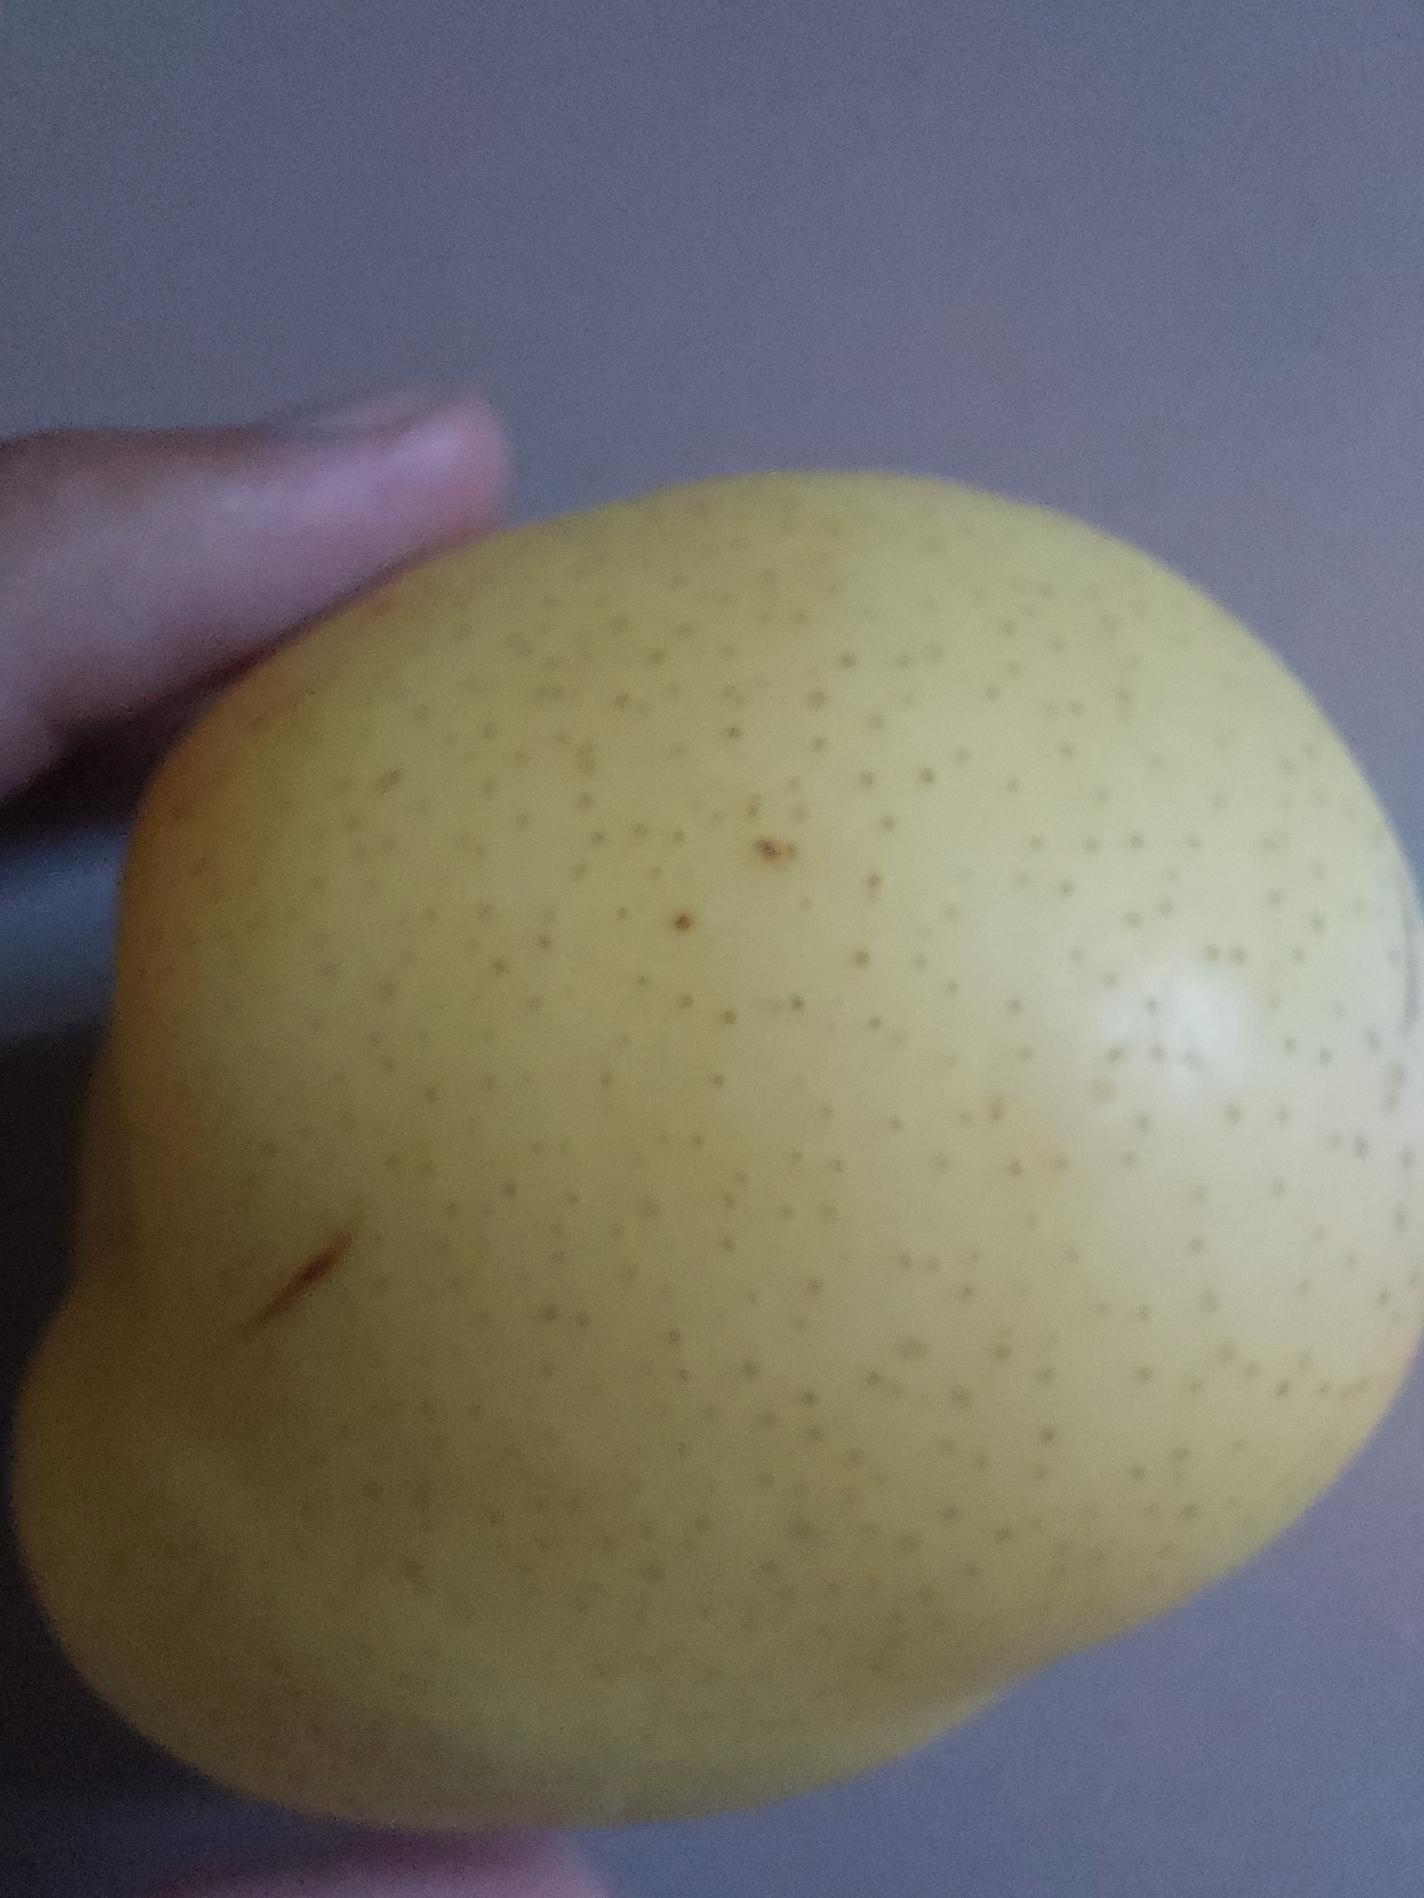Good Pear: (24, 466, 1424, 1844)
